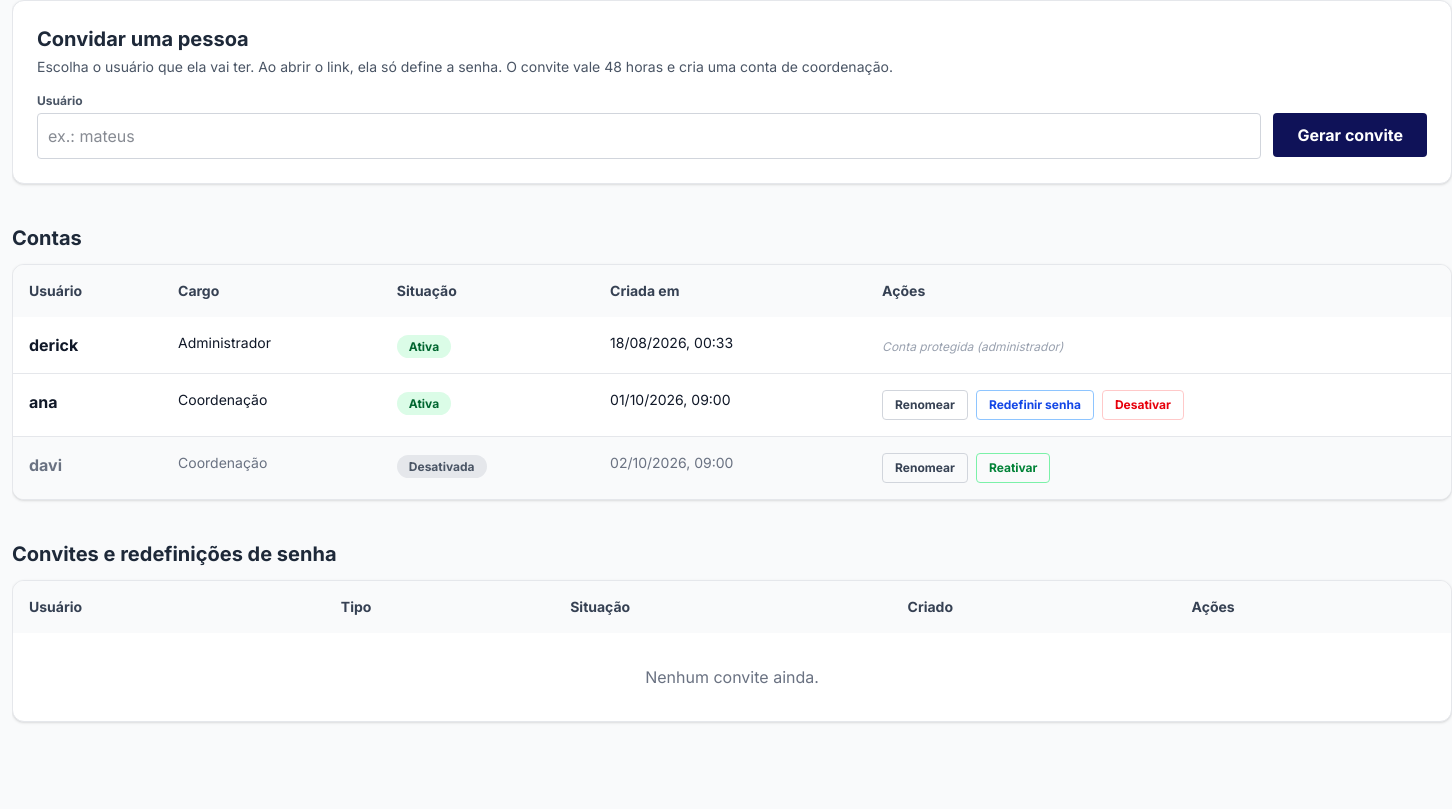
Test: convidar › copiar manda o link para a área de transferência
Type "mateus" into the field with placeholder "ex.: mateus". click: (649, 136)
box: [37,113,1262,159]
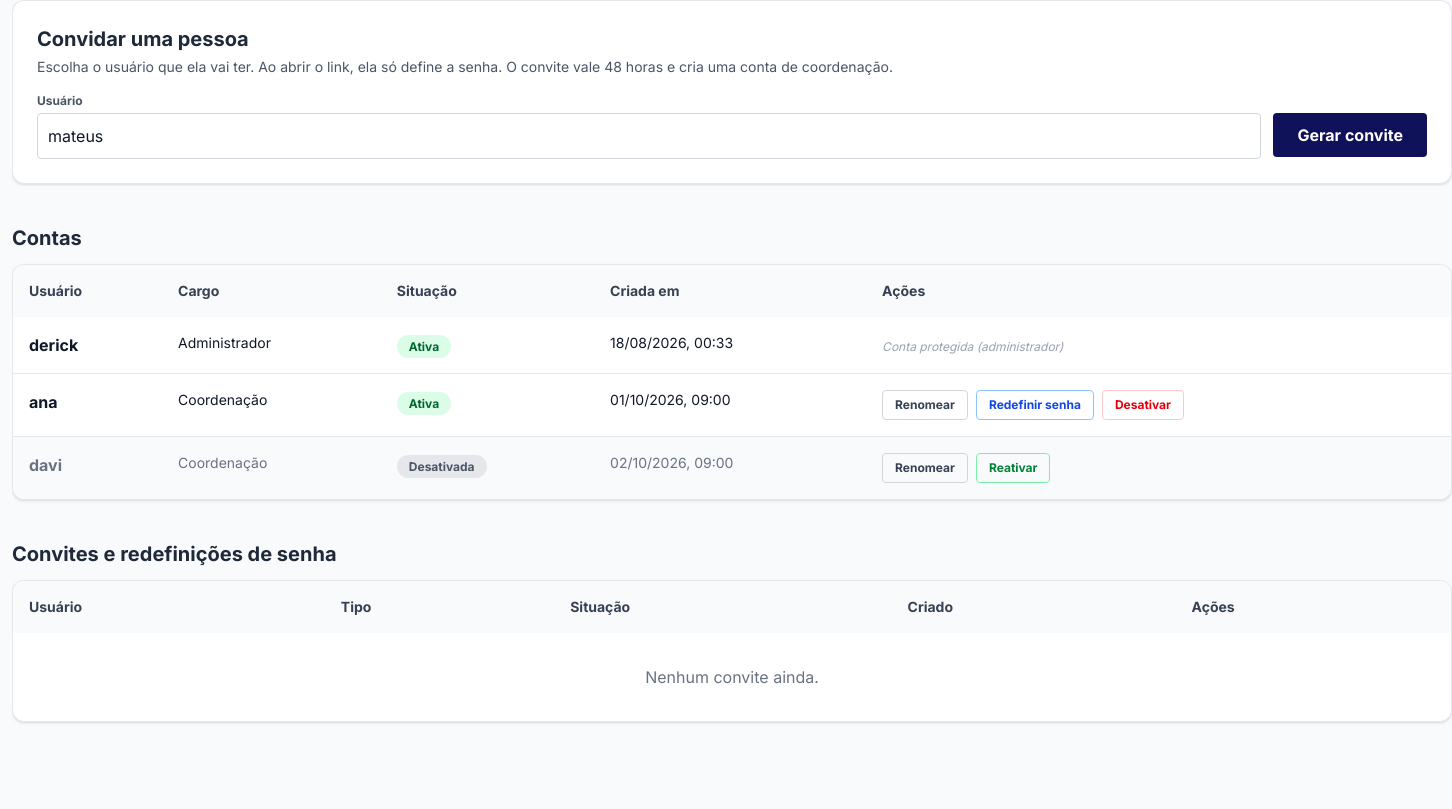
Click the button "Gerar convite". click: (1350, 135)
box: [1274,113,1427,157]
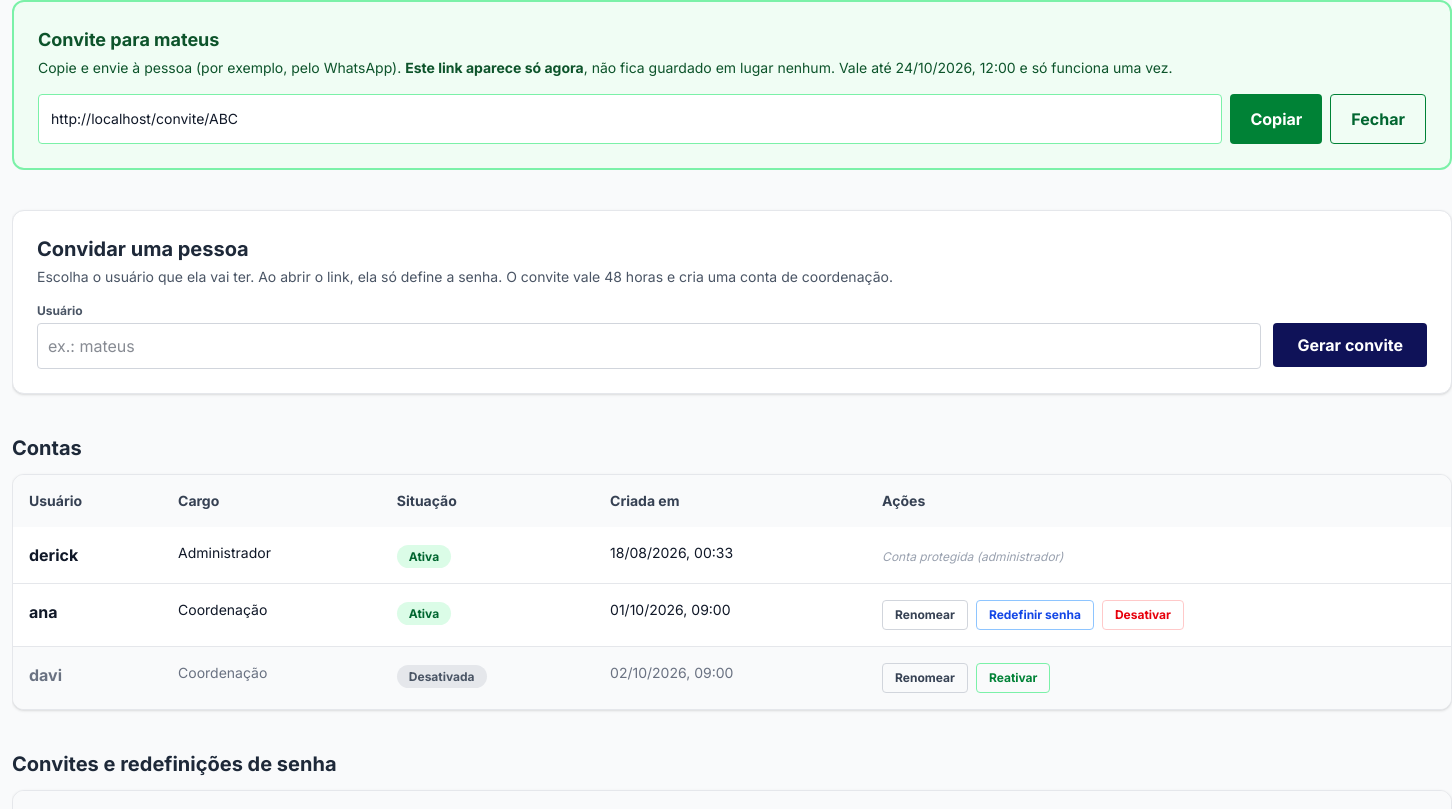
Click the button "Copiar". click: (1276, 119)
box: [1230,94,1322,144]
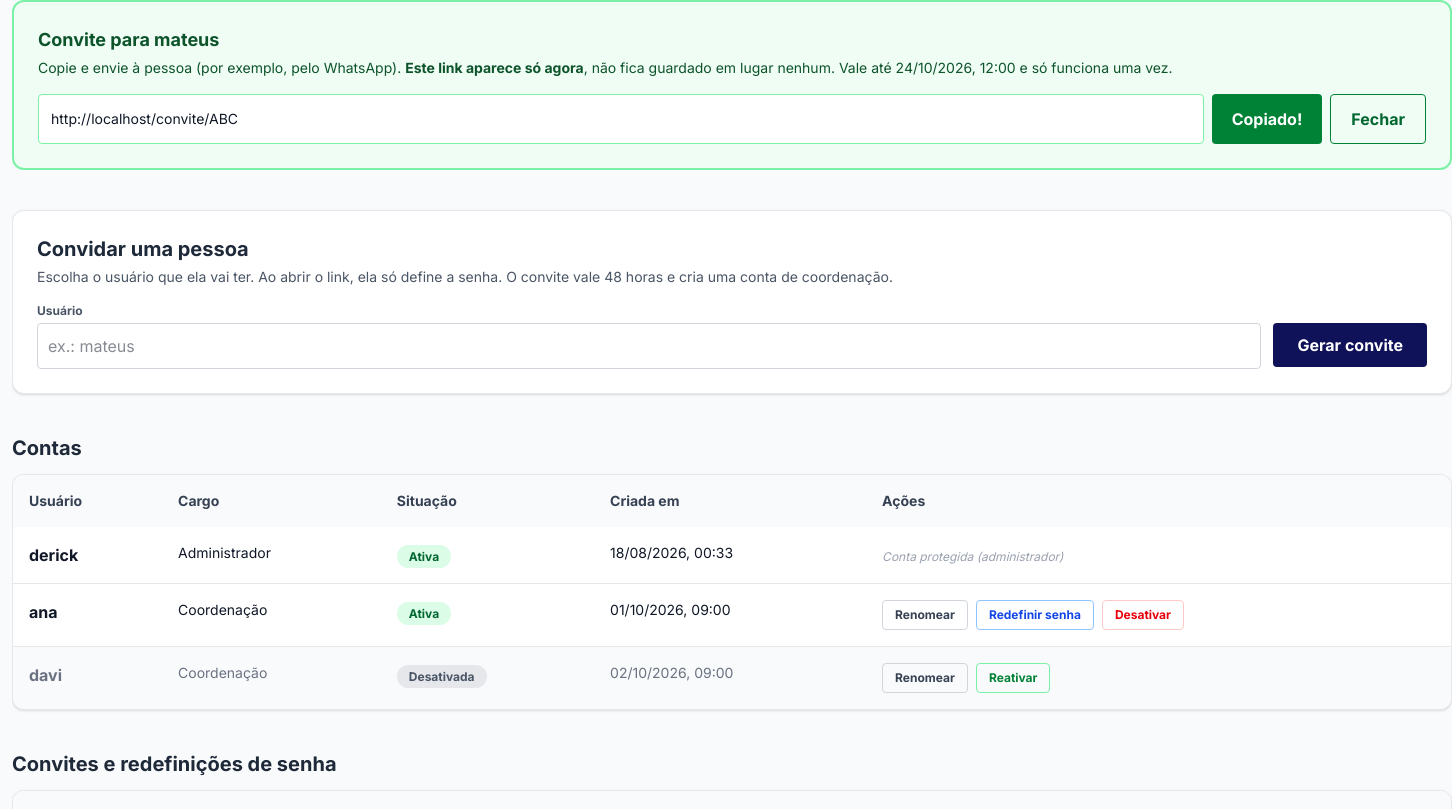
Expected: the button "Copiado!" is shown, [1212,94,1322,144]
